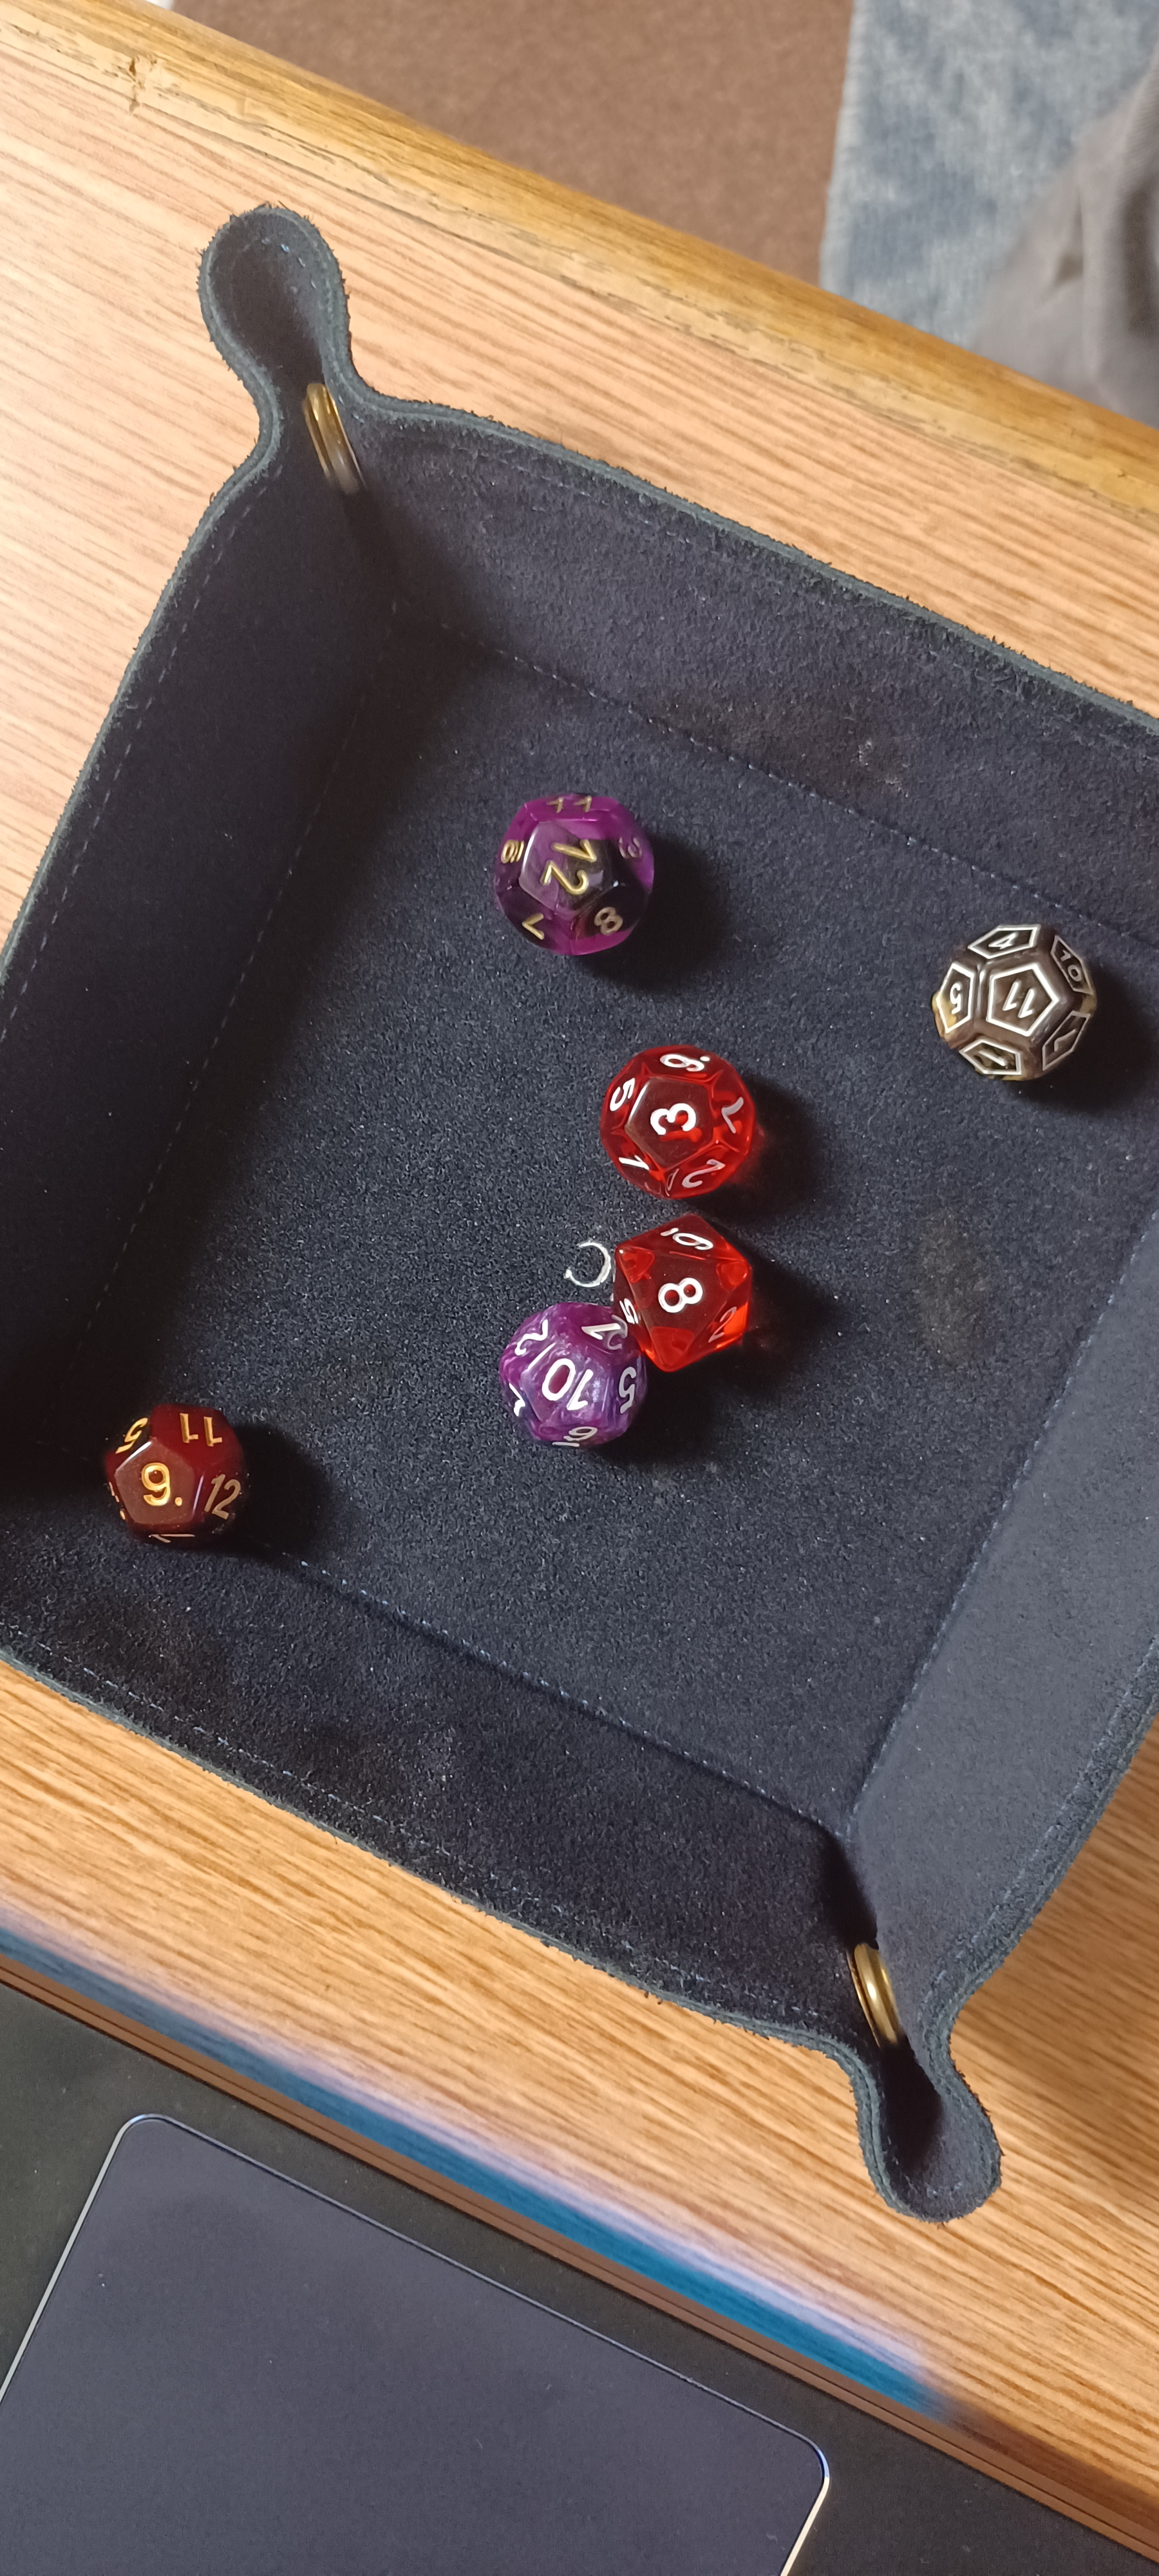eight: (591, 1206, 785, 1383)
eleven: (896, 895, 1129, 1114)
nine: (69, 1383, 295, 1595)
ten: (478, 1293, 667, 1480)
three: (578, 1032, 788, 1212)
twelve: (455, 769, 698, 982)
